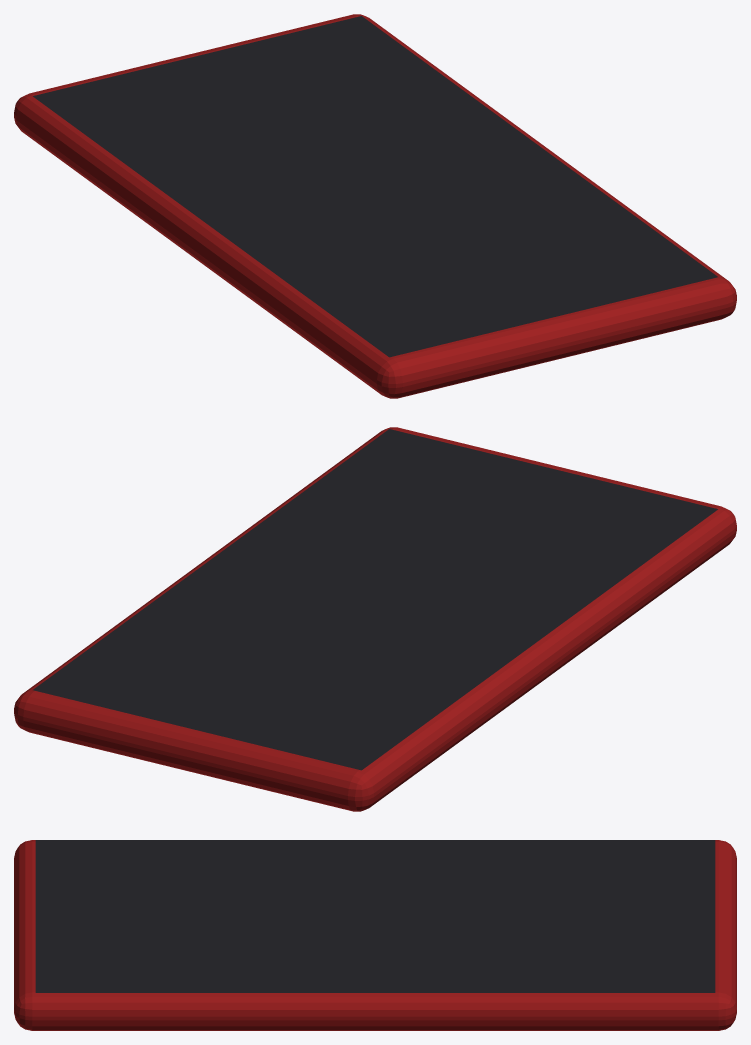
Rendered from Phone_896.glb.
3 views of the same model, one above another, from view 1: azimuth 30°, elevation 25°; view 2: azimuth 150°, elevation 25°; view 3: azimuth 270°, elevation 25° (orthographic). The views are drawn at different scales.
Parts seen in each view (by area): view 1: Phone_Screen, Phone_Body; view 2: Phone_Screen, Phone_Body; view 3: Phone_Screen, Phone_Body.
Boxes of the visible parts, <box> form: Phone_Screen: <box>33,16,717,357</box>; Phone_Body: <box>14,14,736,398</box>; Phone_Screen: <box>33,429,717,770</box>; Phone_Body: <box>14,427,736,811</box>; Phone_Screen: <box>35,840,715,992</box>; Phone_Body: <box>14,840,736,1030</box>.
Bounding box in the file's own units: 0.0765 × 0.008 × 0.1406.
